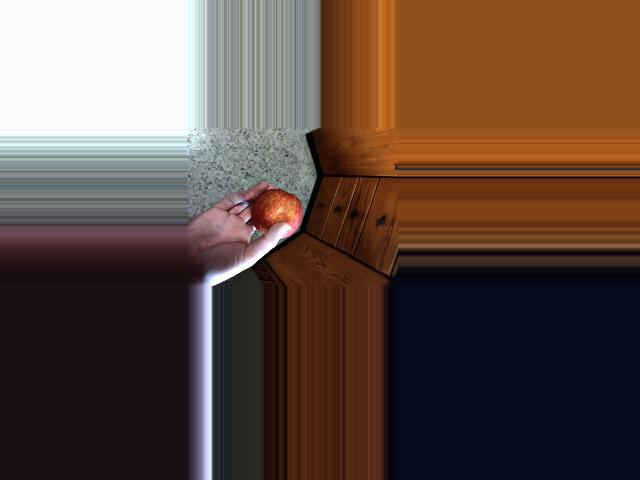apple: (241, 185, 308, 245)
